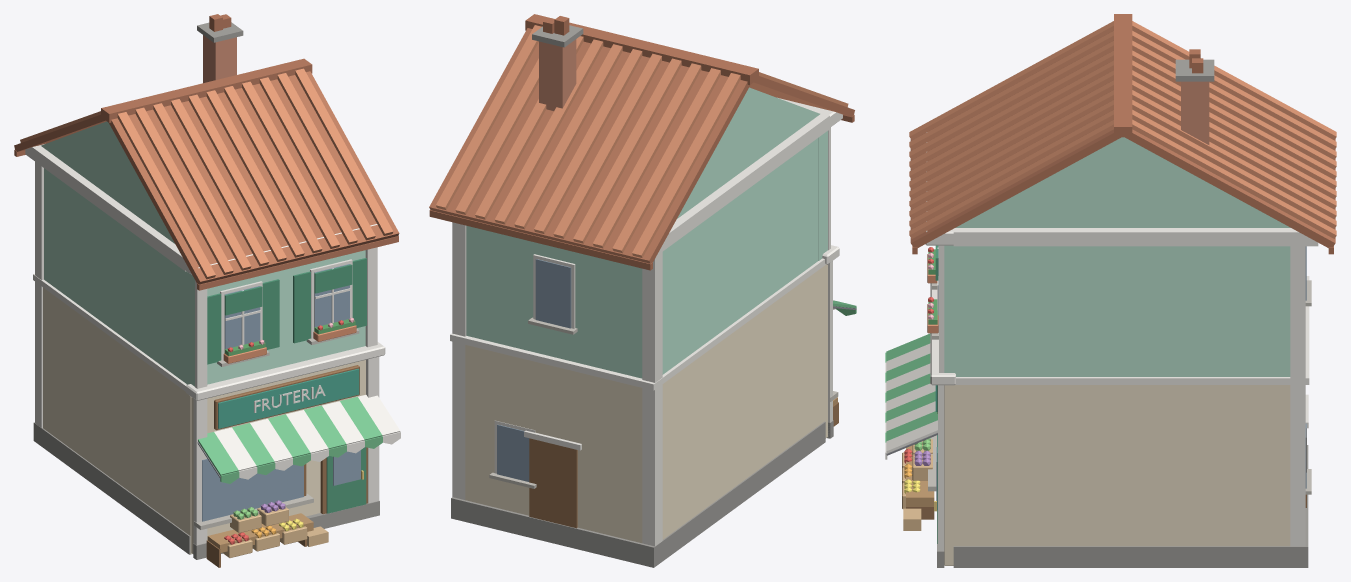
The model's file is env_shop_greengrocer_01.glb.
The picture shows the model from 3 angles, left to right: view 1: azimuth 30°, elevation 25°; view 2: azimuth 150°, elevation 25°; view 3: azimuth 270°, elevation 25°; orthographic projection. The views are drawn at different scales.
Parts seen in each view (by area): view 1: env_shop_greengrocer_01_body; view 2: env_shop_greengrocer_01_body; view 3: env_shop_greengrocer_01_body.
Part boxes in pixels (<box>): env_shop_greengrocer_01_body: <box>14,14,400,567</box>; env_shop_greengrocer_01_body: <box>429,14,856,567</box>; env_shop_greengrocer_01_body: <box>885,14,1336,567</box>.
Size of the model in its own units: 5.2 by 10.49 by 8.79.
